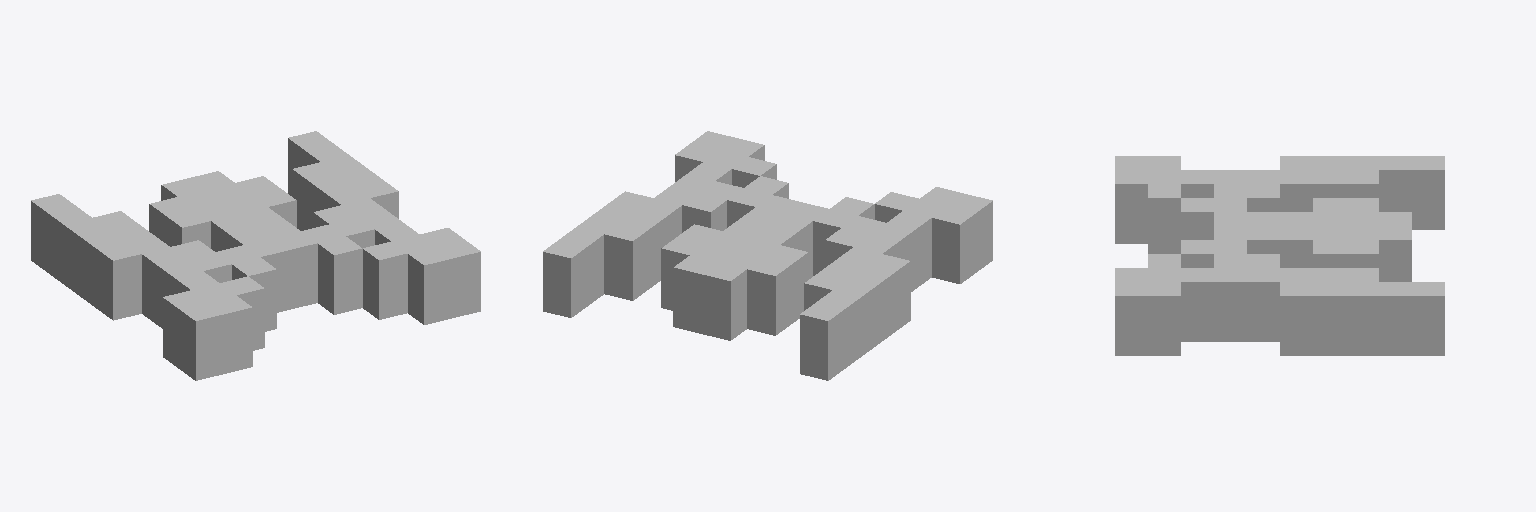
The model's file is Yellow Ship.obj.
The picture shows the model from 3 angles: view 1: azimuth 30°, elevation 25°; view 2: azimuth 150°, elevation 25°; view 3: azimuth 270°, elevation 25°; orthographic projection.
Visible parts, largest first — view 1: Yellow_Ship:Mesh; view 2: Yellow_Ship:Mesh; view 3: Yellow_Ship:Mesh.
Part boxes in pixels (x1,y1,x2,y2): Yellow_Ship:Mesh: (31,131,480,380); Yellow_Ship:Mesh: (543,131,992,380); Yellow_Ship:Mesh: (1115,156,1444,355).
Bounding box in the file's own units: 1 × 0.2 × 1.